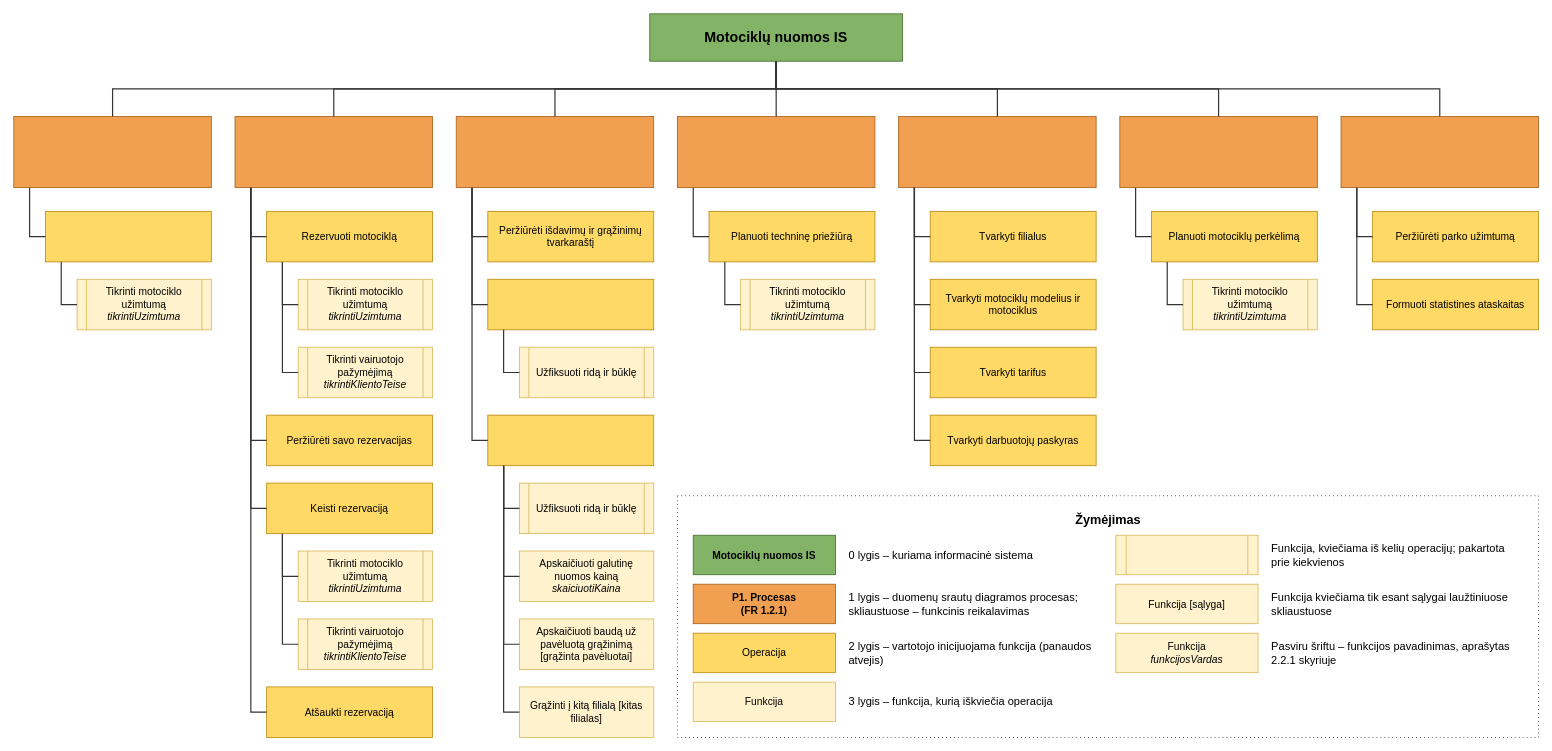
Some shapes in this 1552 by 751 pixel diagram are drawn without their labels. The shapes that lost their labels are listed below. From the top down, each one's box as (x1, y1, x2, y2) in pixels, then its label:
(13, 116, 211, 188): P1. Ieškoti laisvų motociklų ir tikrinti užimtumą (FR 1.2.1)
(234, 116, 433, 188): P2. Rezervuoti ir valdyti rezervacijas (FR 1.2.2)
(455, 116, 654, 188): P3. Įforminti išdavimą ir grąžinimą (FR 1.2.3)
(677, 116, 875, 188): P4. Planuoti techninę priežiūrą (FR 1.2.4)
(898, 116, 1096, 188): P5. Tvarkyti parko duomenis (FR 1.2.5)
(1119, 116, 1317, 188): P6. Planuoti motociklų perkėlimą (FR 1.2.5)
(1340, 116, 1539, 188): P7. Formuoti užimtumo ir statistines ataskaitas (FR 1.2.5)
(45, 211, 211, 262): Ieškoti laisvų motociklų
(487, 278, 654, 330): Įforminti išdavimą
(487, 414, 654, 466): Įforminti grąžinimą
(1115, 534, 1258, 575): Bendra funkcija
